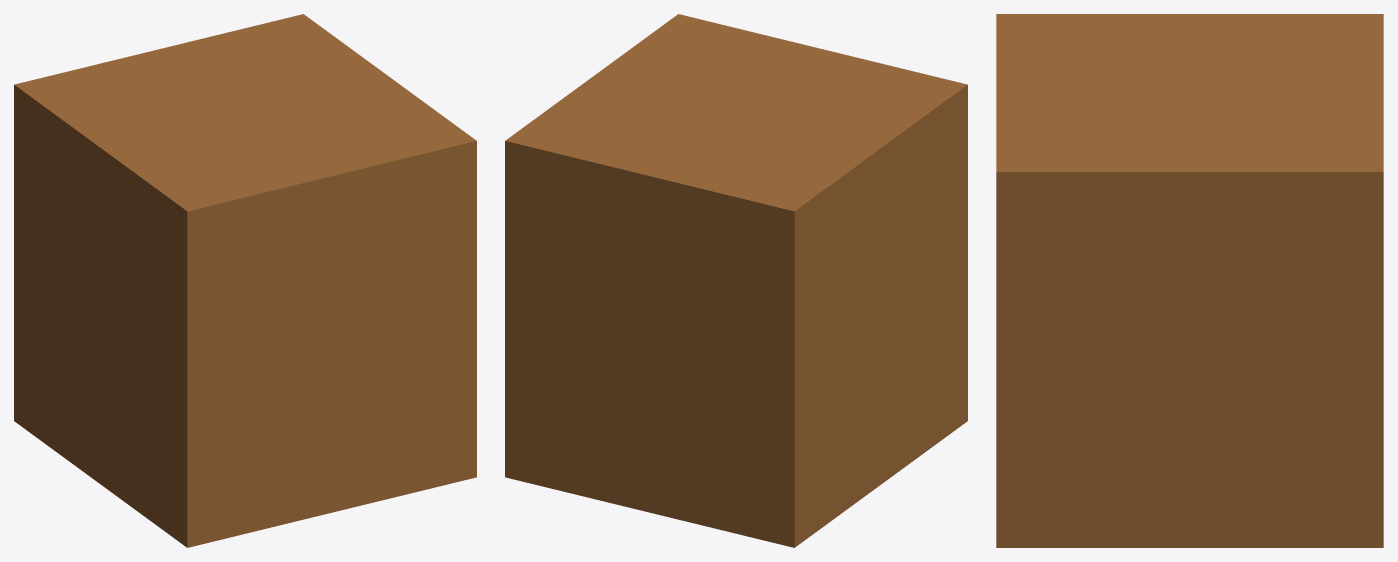
The model's file is prop_bangul_lod2.glb.
3 renders of one model, left to right at view 1: azimuth 30°, elevation 25°; view 2: azimuth 150°, elevation 25°; view 3: azimuth 270°, elevation 25°, orthographic. The views are drawn at different scales.
Visible parts, largest first — view 1: prop_bangul_lod2; view 2: prop_bangul_lod2; view 3: prop_bangul_lod2.
Boxes of the visible parts, x1,y1,x2,y2 form: prop_bangul_lod2: (14, 14, 476, 547); prop_bangul_lod2: (505, 14, 967, 547); prop_bangul_lod2: (996, 14, 1383, 547).
Bounding box in the file's own units: 0.27 × 0.3 × 0.28.
